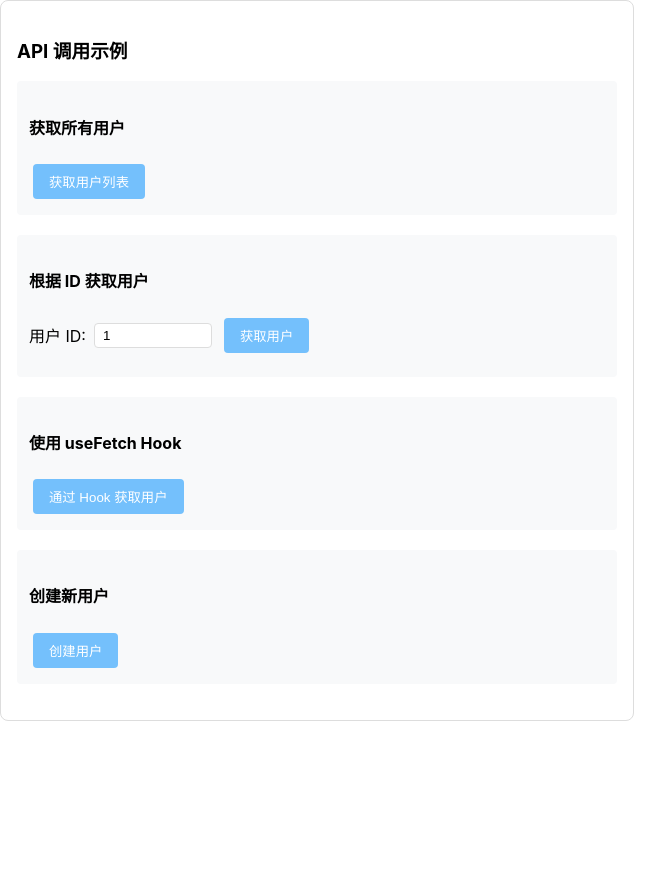
Test: ApiExample组件 › 获取用户列表功能 › 应该能够成功获取用户列表
What coordinates should you click on to do the following:
click the button with test id "fetch-users-button"
I would click on:
 (89, 182)
Its box is x1=33 y1=164 x2=145 y2=199.
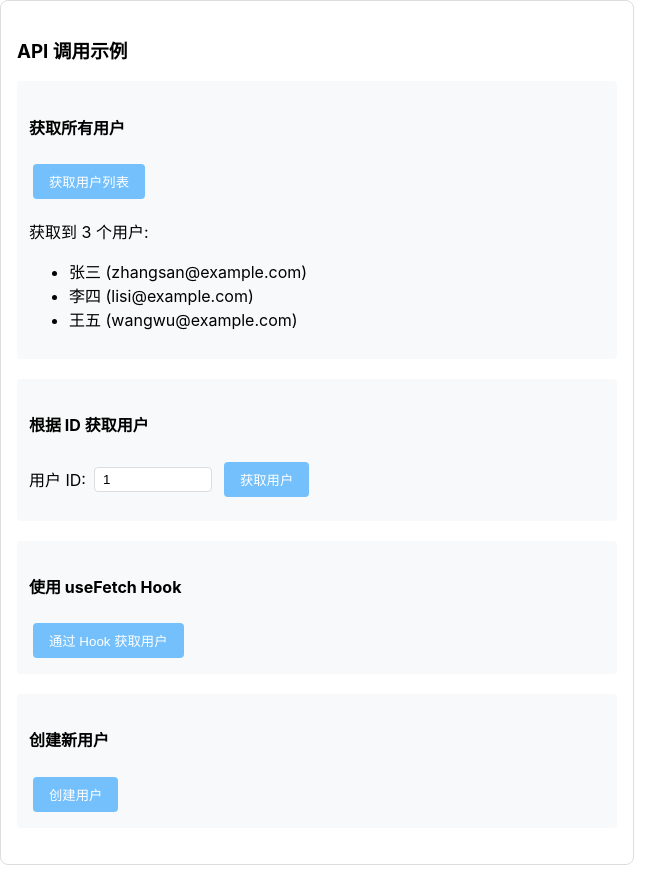
Expected: the element with test id "users-list" is shown, x1=29 y1=222 x2=307 y2=330
Expected: the text "获取到 3 个用户:" is shown, x1=29 y1=222 x2=148 y2=242
Expected: the list item "张三 (zhangsan@example.com)" is shown, x1=69 y1=262 x2=307 y2=282
